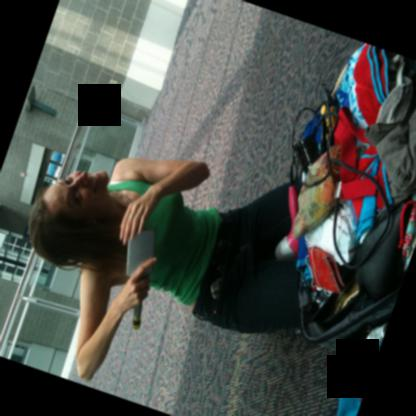backpack: (334, 340, 382, 416)
handbag: (310, 201, 359, 267)
suitcase: (291, 45, 416, 350)
